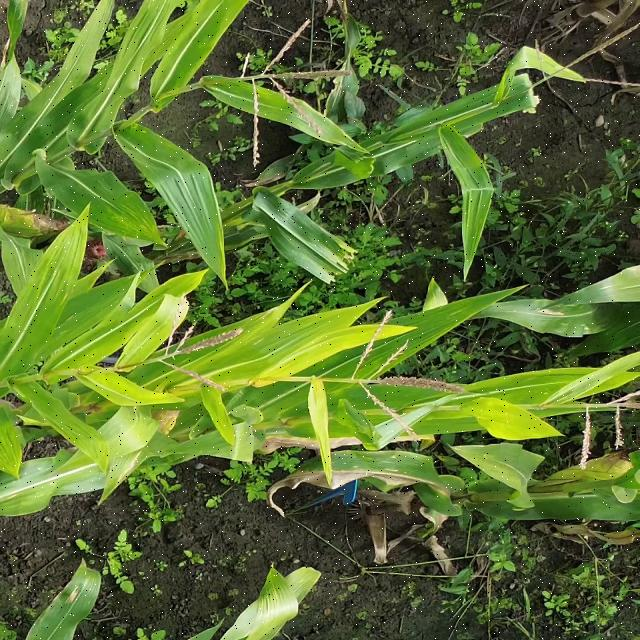gray-leaf-spot: (103, 201, 159, 237)
northern-leaf-blight: (343, 457, 441, 494), (525, 303, 581, 329), (63, 587, 92, 615)
